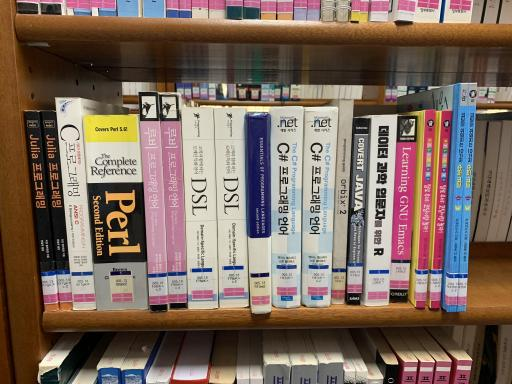book-spine: (83, 115, 148, 310), (55, 98, 96, 310), (182, 108, 218, 309), (302, 107, 338, 308), (214, 108, 249, 308), (270, 106, 304, 309), (25, 110, 58, 312), (41, 111, 73, 310), (139, 92, 168, 311), (365, 115, 398, 306), (160, 93, 187, 309), (388, 115, 417, 302), (247, 113, 272, 314), (331, 99, 354, 304), (448, 83, 468, 312), (430, 111, 452, 309), (457, 83, 476, 311), (347, 118, 369, 305), (415, 110, 435, 308)
